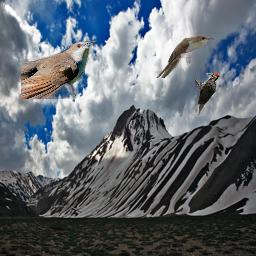Cuckoo: (21, 41, 96, 99), (156, 35, 214, 78)
Woodpecker: (195, 73, 220, 115)
